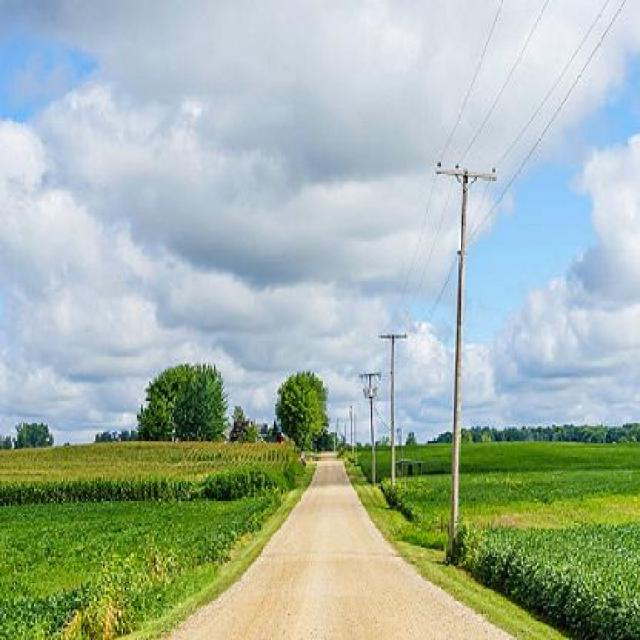pole: (428, 157, 508, 515), (374, 323, 409, 483)
